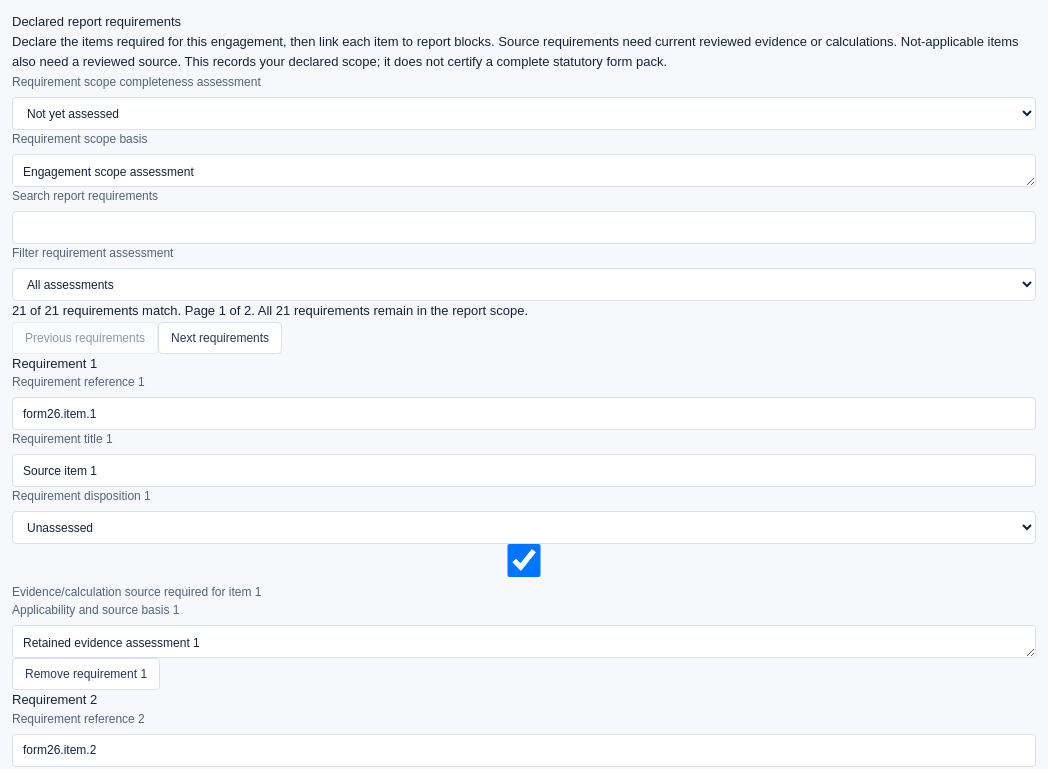
Scenario: report requirement navigation › clamps the last page after deletion
Click the button "Next requirements". click: (220, 338)
box: [158,322,282,354]
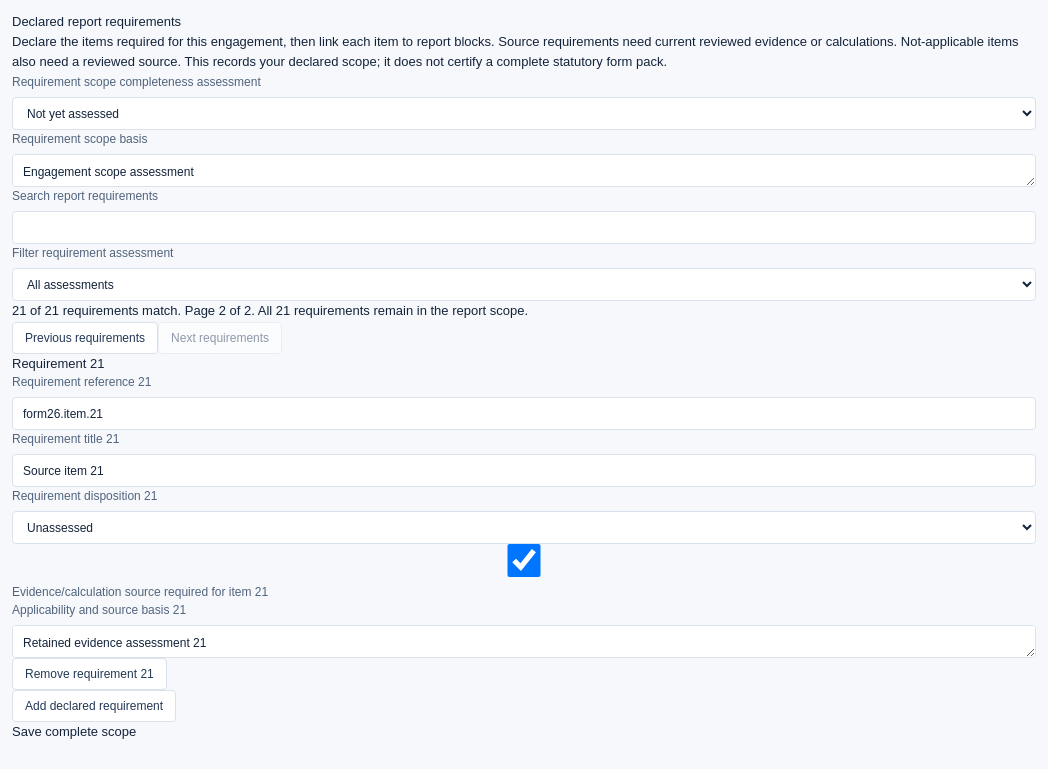
Click the button "Remove requirement 21". click: (89, 674)
box: [12,658,167,690]
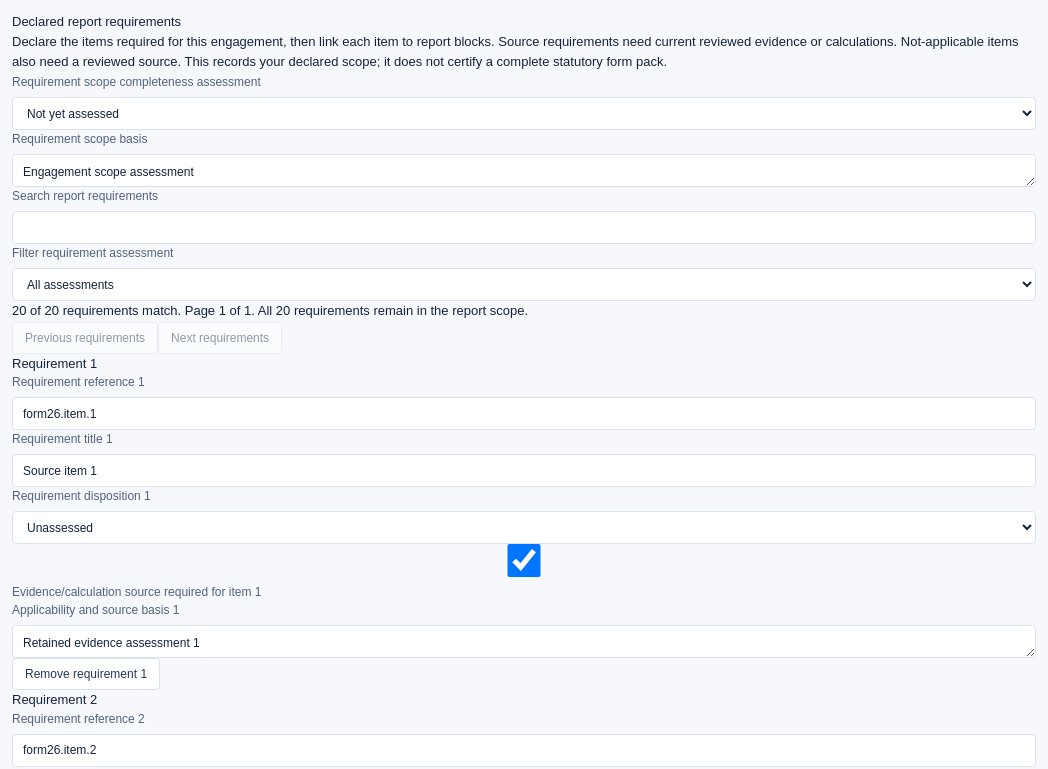
Expected: the field labelled "Requirement reference 1" is shown, [12,397,1036,430]
Expected: the message shows "20 of 20 requirements match. Page 1 of 1.", [12,303,528,318]
